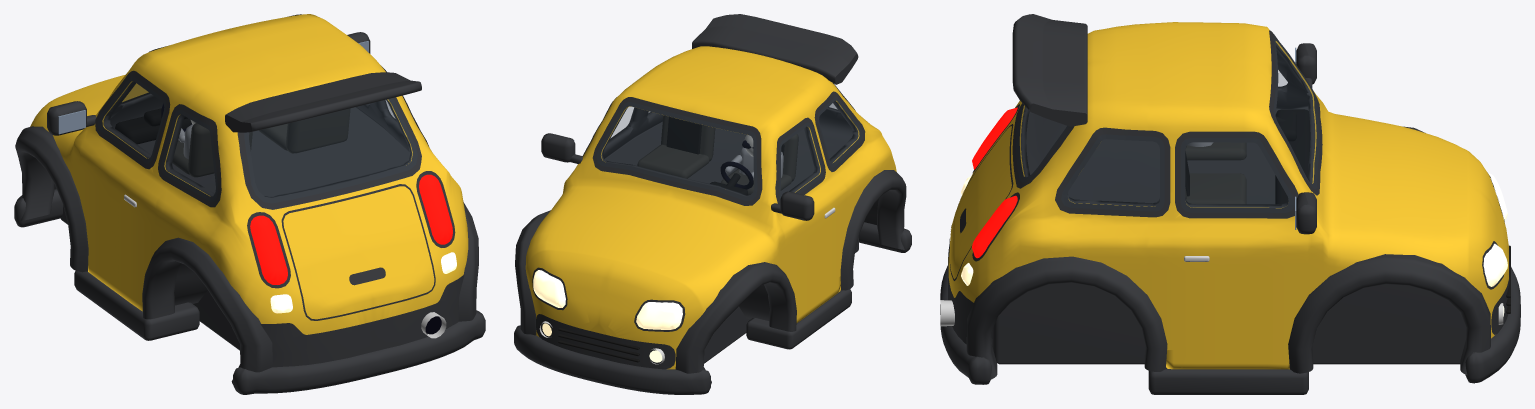
Rendered from car_hatch.glb.
3 views of the same model, side by side, from view 1: azimuth 30°, elevation 25°; view 2: azimuth 150°, elevation 25°; view 3: azimuth 270°, elevation 25° (orthographic). The views are drawn at different scales.
Visible parts, largest first — view 1: body_q, detail_q; view 2: body_q, detail_q; view 3: body_q, detail_q.
Boxes of the visible parts, <box> form: body_q: <box>14,14,485,394</box>; detail_q: <box>58,41,446,338</box>; body_q: <box>514,14,911,394</box>; detail_q: <box>539,115,835,364</box>; body_q: <box>940,14,1520,394</box>; detail_q: <box>940,47,1510,326</box>.
Bounding box in the file's own units: 2.48 × 1.9 × 3.62.
